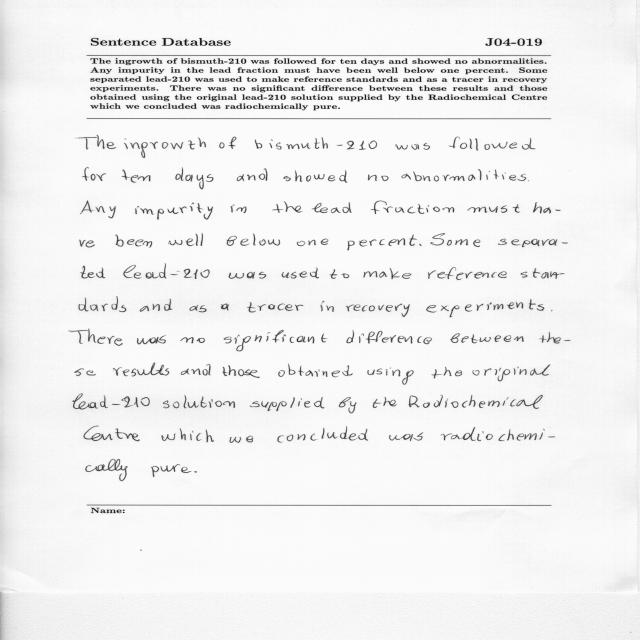word: (224, 330, 328, 351), (427, 299, 545, 317), (409, 395, 543, 409), (124, 138, 206, 158), (402, 169, 526, 182), (441, 427, 555, 441), (255, 137, 377, 150), (277, 426, 368, 443), (135, 203, 213, 220), (472, 365, 550, 382), (123, 264, 210, 279), (448, 137, 536, 151), (73, 394, 150, 410), (346, 330, 432, 344), (371, 201, 454, 214), (347, 235, 417, 250), (250, 397, 324, 411), (428, 267, 507, 280), (278, 364, 353, 377), (163, 395, 235, 408), (86, 459, 128, 481), (69, 329, 123, 346), (367, 367, 414, 385), (84, 426, 140, 441), (176, 168, 214, 190), (283, 170, 347, 183), (346, 304, 410, 317), (161, 429, 214, 443), (450, 333, 524, 343), (113, 363, 169, 376), (79, 297, 126, 312), (431, 233, 481, 247), (227, 233, 280, 246), (247, 302, 303, 313), (80, 201, 116, 218), (78, 135, 116, 150), (498, 239, 568, 247), (151, 464, 192, 477), (364, 268, 412, 279), (521, 268, 565, 279), (115, 235, 152, 248), (223, 365, 260, 378), (468, 204, 520, 213), (168, 233, 203, 246), (312, 202, 352, 213), (140, 299, 173, 312), (282, 268, 319, 279), (122, 169, 151, 183), (237, 169, 267, 182), (272, 201, 303, 213), (539, 332, 571, 343), (533, 202, 561, 214), (181, 364, 211, 375), (432, 367, 462, 378), (81, 266, 106, 279), (83, 167, 106, 181), (389, 432, 423, 441), (339, 397, 357, 413), (373, 397, 397, 408), (137, 336, 166, 345), (229, 272, 266, 279), (395, 143, 430, 150), (297, 239, 328, 246), (219, 137, 237, 149), (330, 269, 349, 279), (180, 337, 205, 344), (75, 369, 96, 377), (230, 436, 253, 443), (320, 301, 334, 312), (231, 205, 247, 213), (368, 175, 388, 181), (80, 240, 95, 248), (190, 305, 207, 312), (221, 304, 229, 311), (419, 244, 422, 246), (194, 471, 197, 473), (551, 310, 553, 311), (528, 181, 529, 182)
